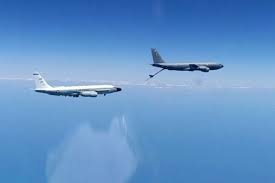maybay_muctieu: (28, 71, 126, 103), (145, 46, 224, 82)
